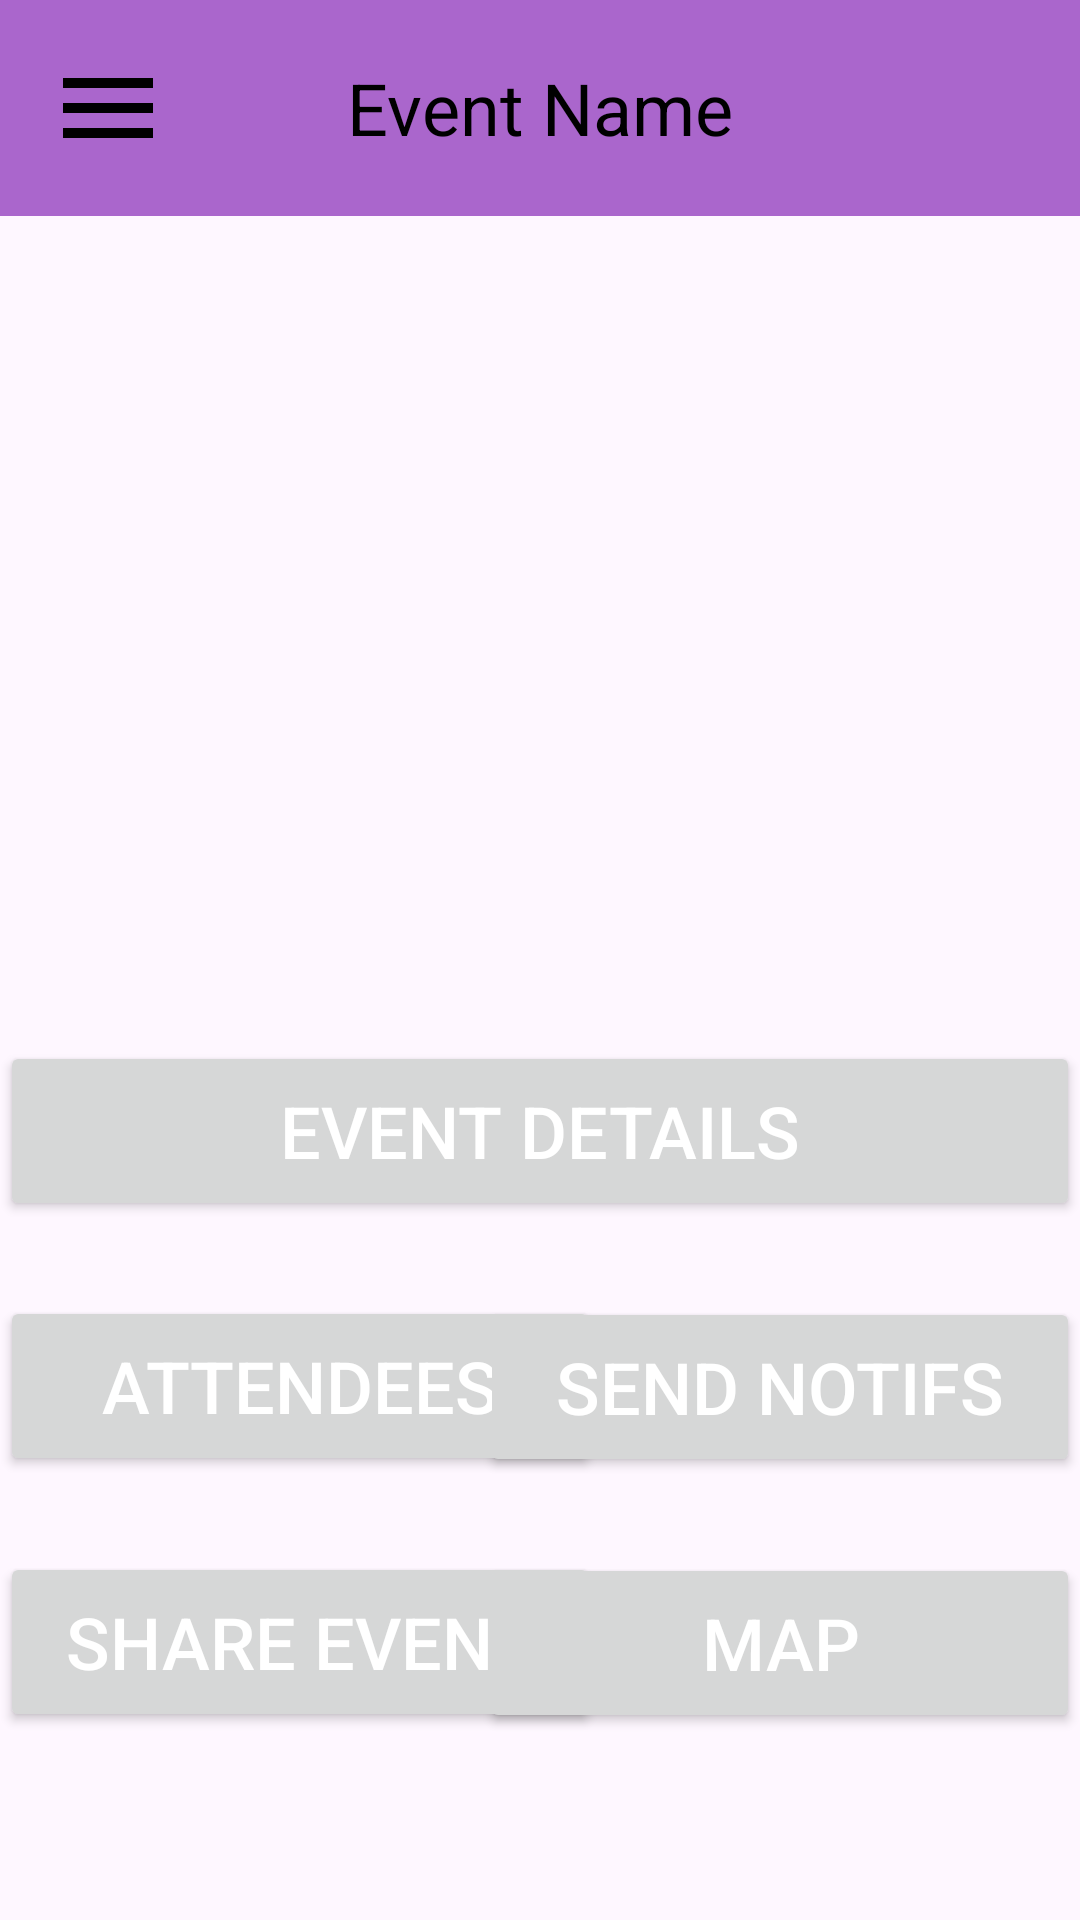

Screen size 1080*1920. Icon name, then its box in pixels as bbox=(x1, y1, x2, y2):
menu: bbox=(63, 78, 153, 138)
